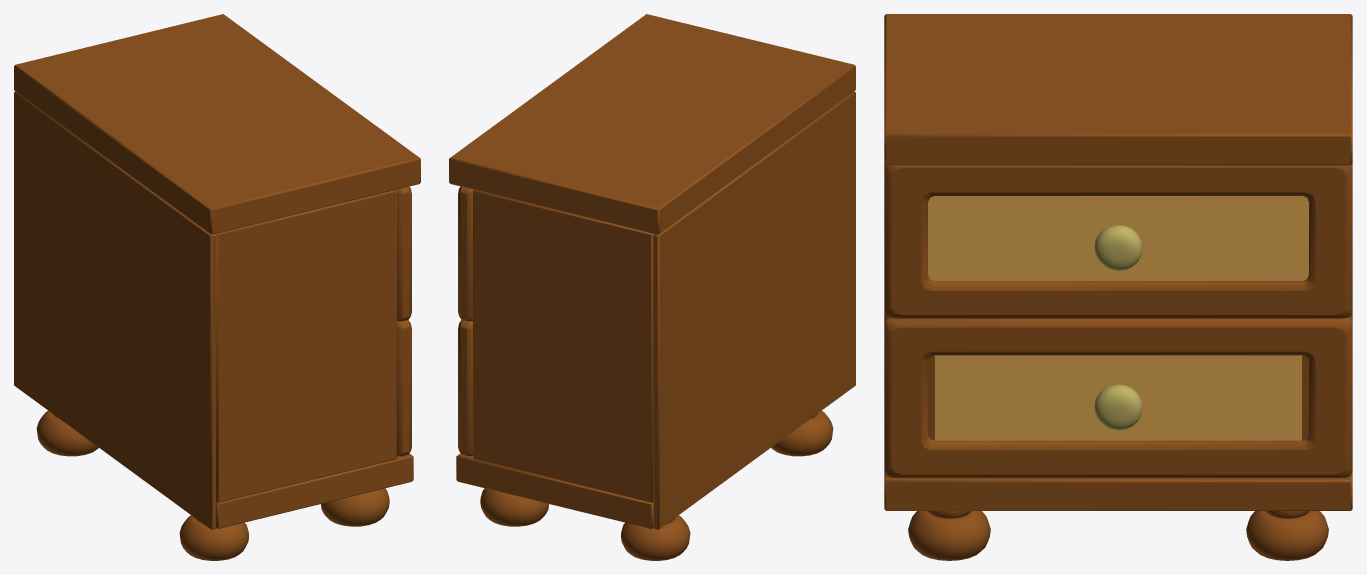
Rendered from Cabinate2.glb.
3 renders of one model, left to right at view 1: azimuth 30°, elevation 25°; view 2: azimuth 150°, elevation 25°; view 3: azimuth 270°, elevation 25°, orthographic. The views are drawn at different scales.
Parts seen in each view (by area): view 1: Bedside, Bedside_box1, Bedside_box2; view 2: Bedside, Bedside_box1, Bedside_box2; view 3: Bedside, Bedside_box1, Bedside_box2.
Boxes of the visible parts, left/top/right/bottom form: Bedside: left=14, top=14, right=420, bottom=560; Bedside_box1: left=397, top=320, right=411, bottom=456; Bedside_box2: left=396, top=186, right=411, bottom=321; Bedside: left=449, top=14, right=855, bottom=560; Bedside_box1: left=458, top=320, right=472, bottom=456; Bedside_box2: left=458, top=186, right=473, bottom=321; Bedside: left=884, top=14, right=1352, bottom=560; Bedside_box1: left=884, top=316, right=1352, bottom=477; Bedside_box2: left=884, top=164, right=1352, bottom=318.
Bounding box in the file's own units: 0.4515 × 0.7076 × 0.6883.
